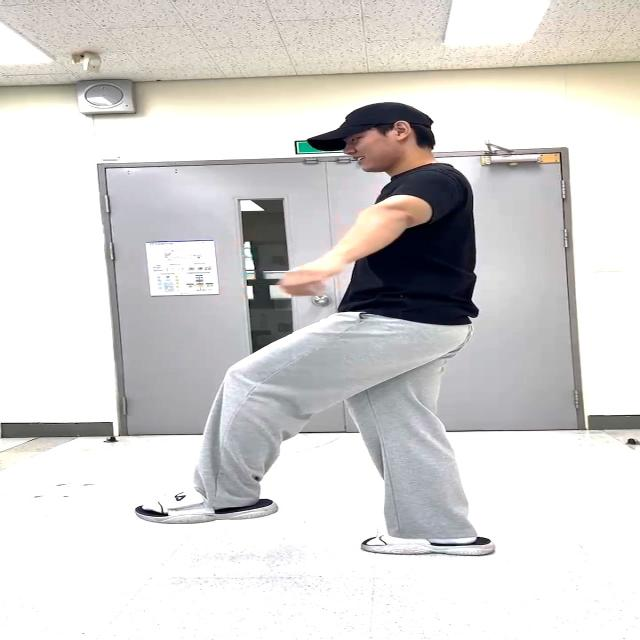leg: (140, 284, 360, 539)
